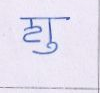aa_matra: (29, 19, 33, 27)
